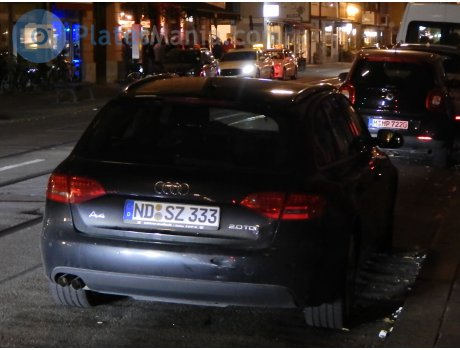License Plates: (137, 205, 218, 224)
